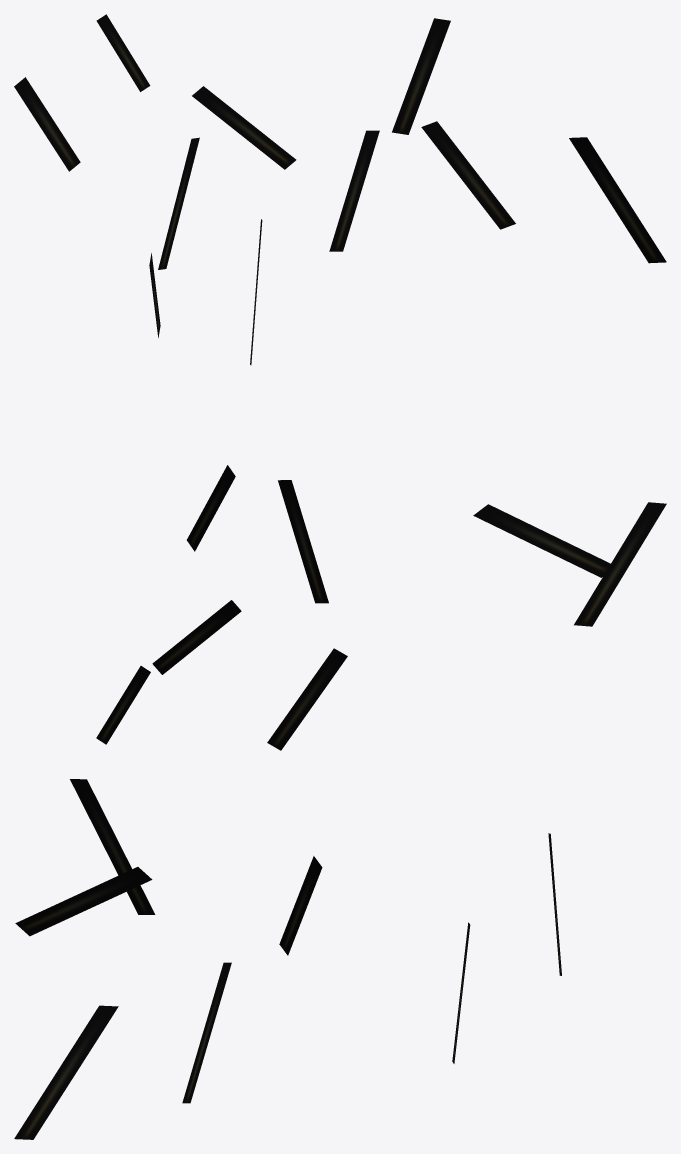
File: searchlights.glb
3 views of the same model, one above another, from view 1: azimuth 30°, elevation 25°; view 2: azimuth 150°, elevation 25°; view 3: azimuth 270°, elevation 25° (orthographic). The views are drawn at different scales.
Parts seen in each view (by area): view 1: searchlightA09, searchlightA05, searchlightA06, searchlightA03, searchlightA01, searchlightA02, searchlightA07, searchlightA04; view 2: searchlightA08, searchlightA10, searchlightA02, searchlightA01, searchlightA03, searchlightA05, searchlightA04; view 3: searchlightA09, searchlightA10, searchlightA08, searchlightA05, searchlightA07.
Boxes of the visible parts, bbox=[...] form: searchlightA09: bbox=[569, 137, 666, 263]; searchlightA05: bbox=[421, 121, 515, 229]; searchlightA06: bbox=[392, 18, 450, 134]; searchlightA03: bbox=[192, 86, 296, 169]; searchlightA01: bbox=[329, 130, 379, 251]; searchlightA02: bbox=[14, 77, 80, 171]; searchlightA07: bbox=[158, 137, 199, 269]; searchlightA04: bbox=[96, 14, 150, 91]; searchlightA08: bbox=[574, 502, 666, 626]; searchlightA10: bbox=[473, 504, 610, 577]; searchlightA02: bbox=[267, 648, 347, 750]; searchlightA01: bbox=[278, 480, 328, 603]; searchlightA03: bbox=[152, 600, 241, 674]; searchlightA05: bbox=[187, 465, 235, 551]; searchlightA04: bbox=[96, 666, 150, 744]; searchlightA09: bbox=[14, 1005, 118, 1139]; searchlightA10: bbox=[15, 867, 152, 936]; searchlightA08: bbox=[70, 779, 155, 914]; searchlightA05: bbox=[182, 962, 231, 1103]; searchlightA07: bbox=[279, 856, 322, 955].
Bounding box in the file's own units: 42654 × 10090 × 46040.
1 material, 1 textured.
